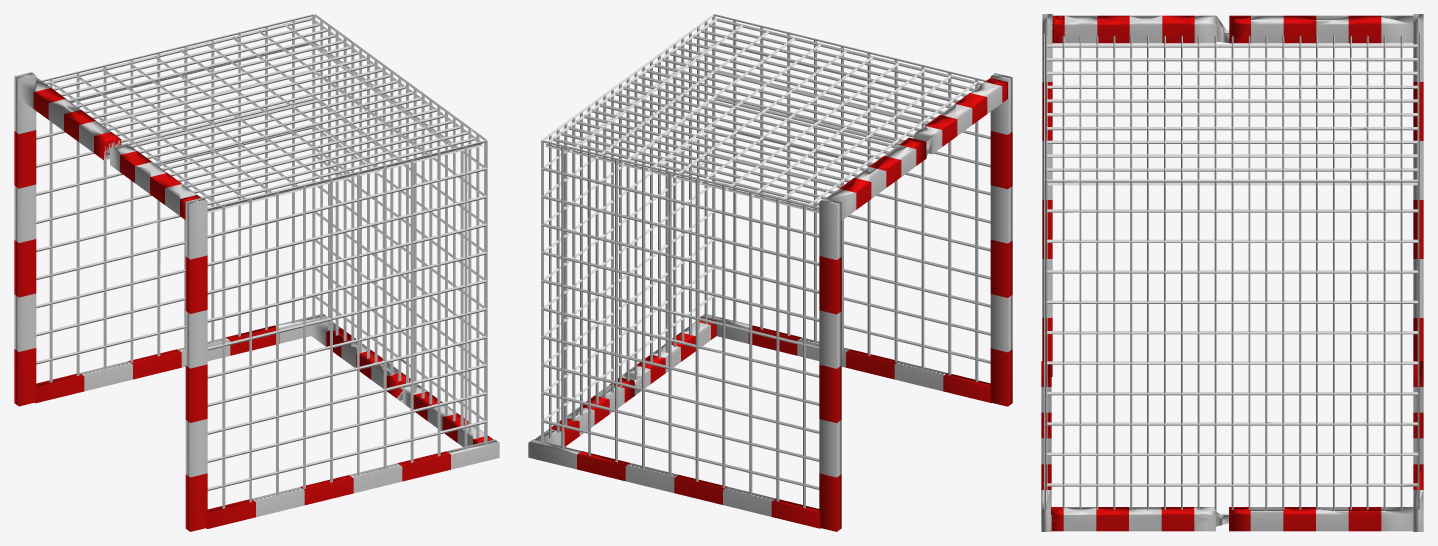
The model's file is trave.glb.
3 views of the same model, side by side, from view 1: azimuth 30°, elevation 25°; view 2: azimuth 150°, elevation 25°; view 3: azimuth 270°, elevation 25° (orthographic). The views are drawn at different scales.
Parts seen in each view (by area): view 1: Cube.006; view 2: Cube.006; view 3: Cube.006.
Part boxes in pixels (bbox=[...]): Cube.006: bbox=[14, 14, 499, 531]; Cube.006: bbox=[528, 14, 1012, 531]; Cube.006: bbox=[1041, 14, 1423, 531].
Size of the model in its own units: 2.98 by 3.02 by 2.95.
